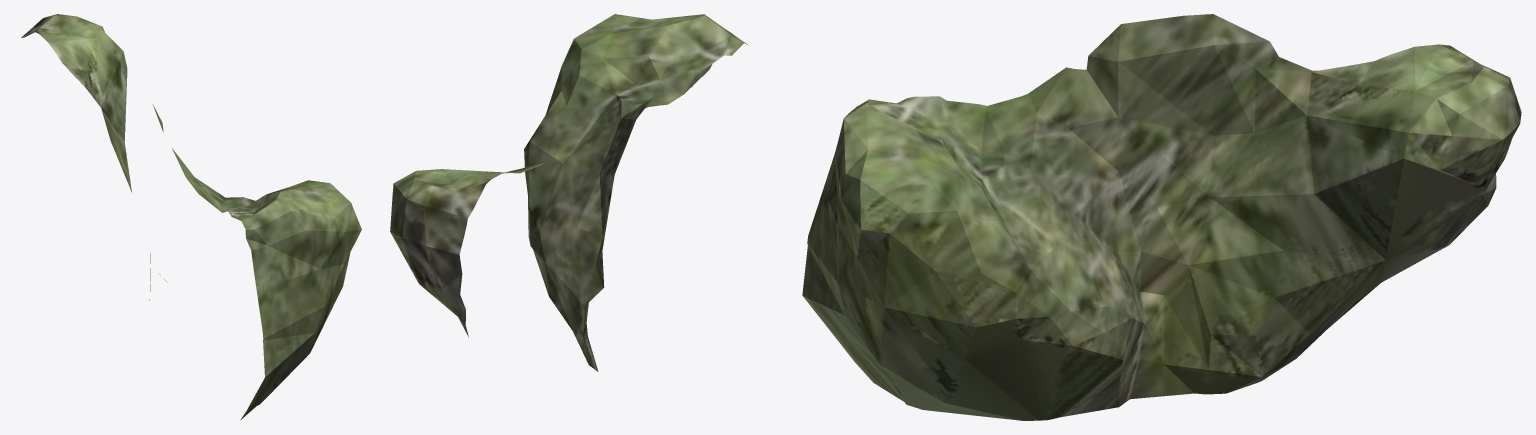
3 renders of one model, left to right at view 1: azimuth 30°, elevation 25°; view 2: azimuth 150°, elevation 25°; view 3: azimuth 270°, elevation 25°, orthographic. The views are drawn at different scales.
Bounding box in the file's own units: 0.6819 × 1.38 × 2.43.
1 material, 1 textured.
